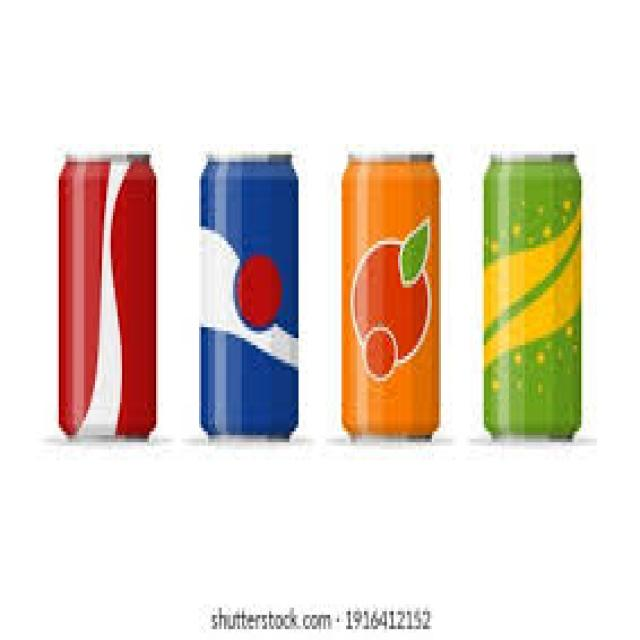Cans: (475, 140, 592, 457), (335, 144, 450, 453), (192, 140, 303, 457), (52, 144, 165, 453)
